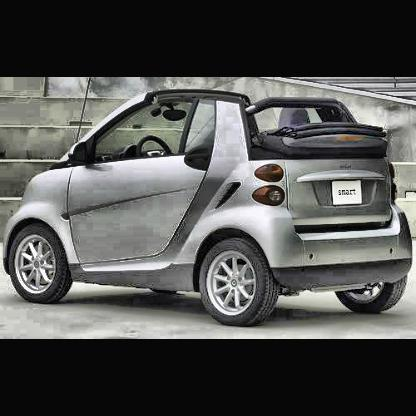smart fortwo Convertible 2012: (5, 88, 416, 330)
